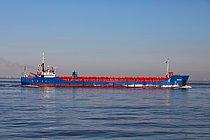Ship: (17, 52, 196, 92)
